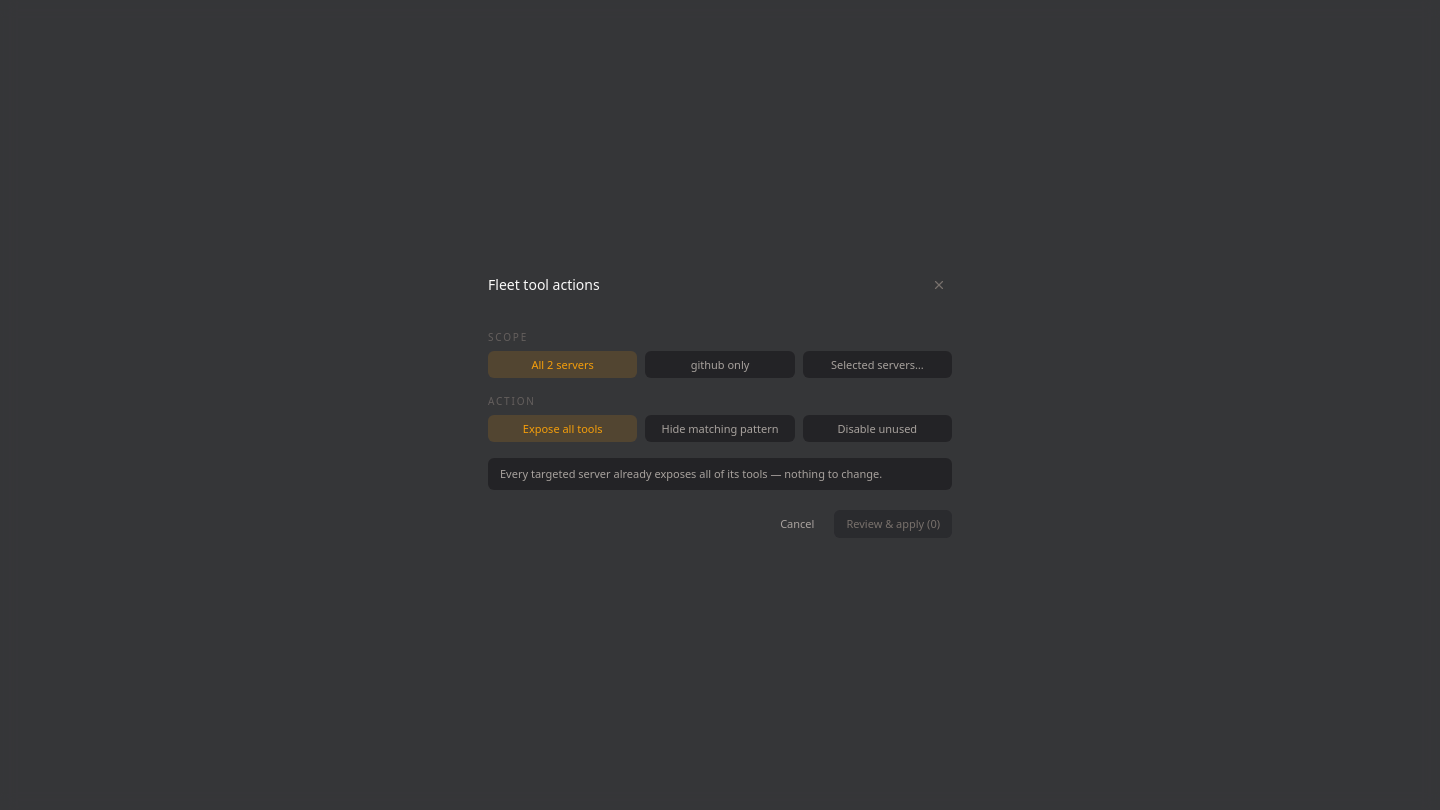
Test: FleetActions › scopes an action to a hand-picked subset of servers
This screenshot has width=1440, height=810.
Click the button "Selected servers…".
click(877, 364)  # box [803, 351, 952, 378]
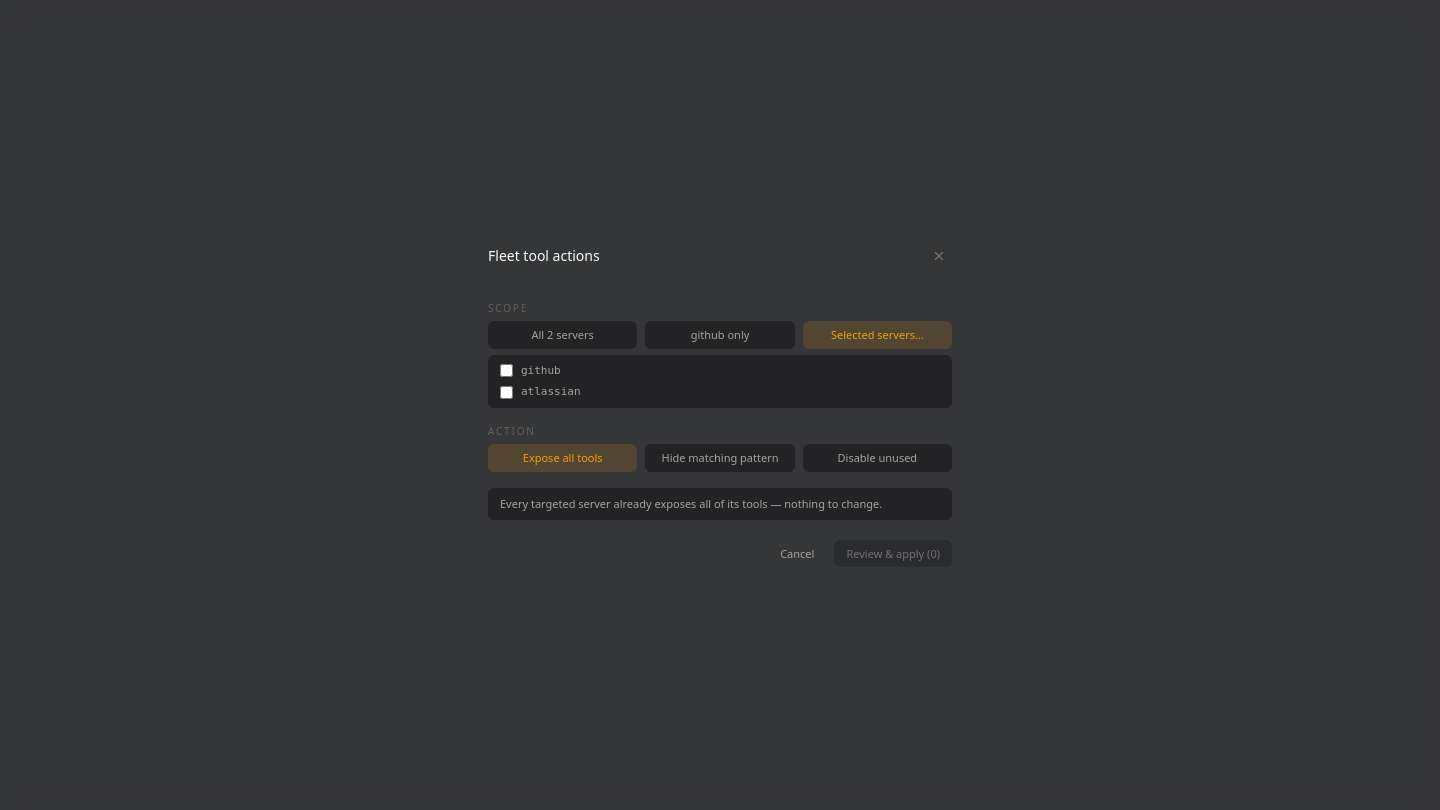
Click the button "Disable unused".
click(877, 458)  # box [803, 444, 952, 472]
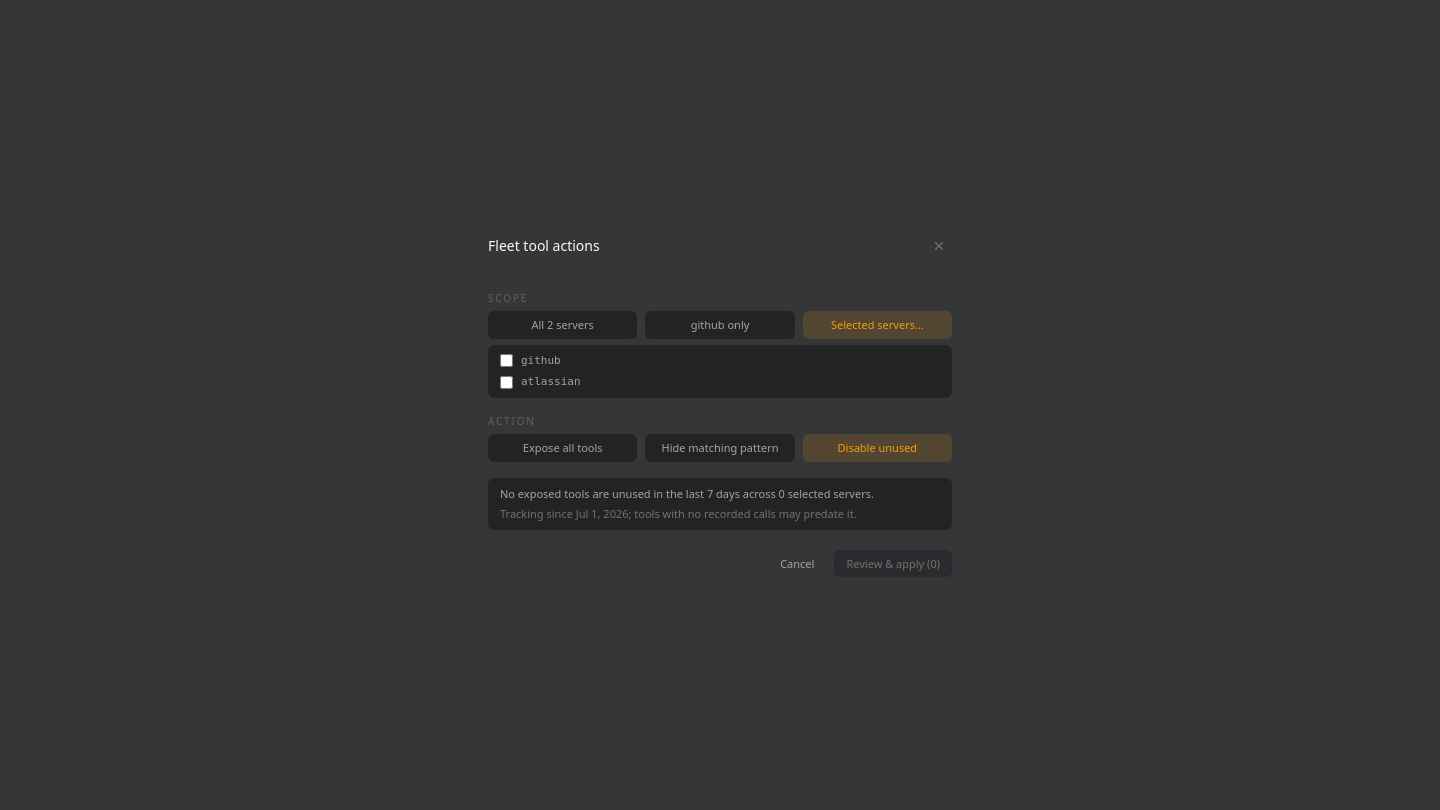
Check: the text "No exposed tools are unused" is shown, box [500, 486, 707, 501]
Click the checkbox labelled "github".
click(506, 361)  # box [500, 354, 513, 367]
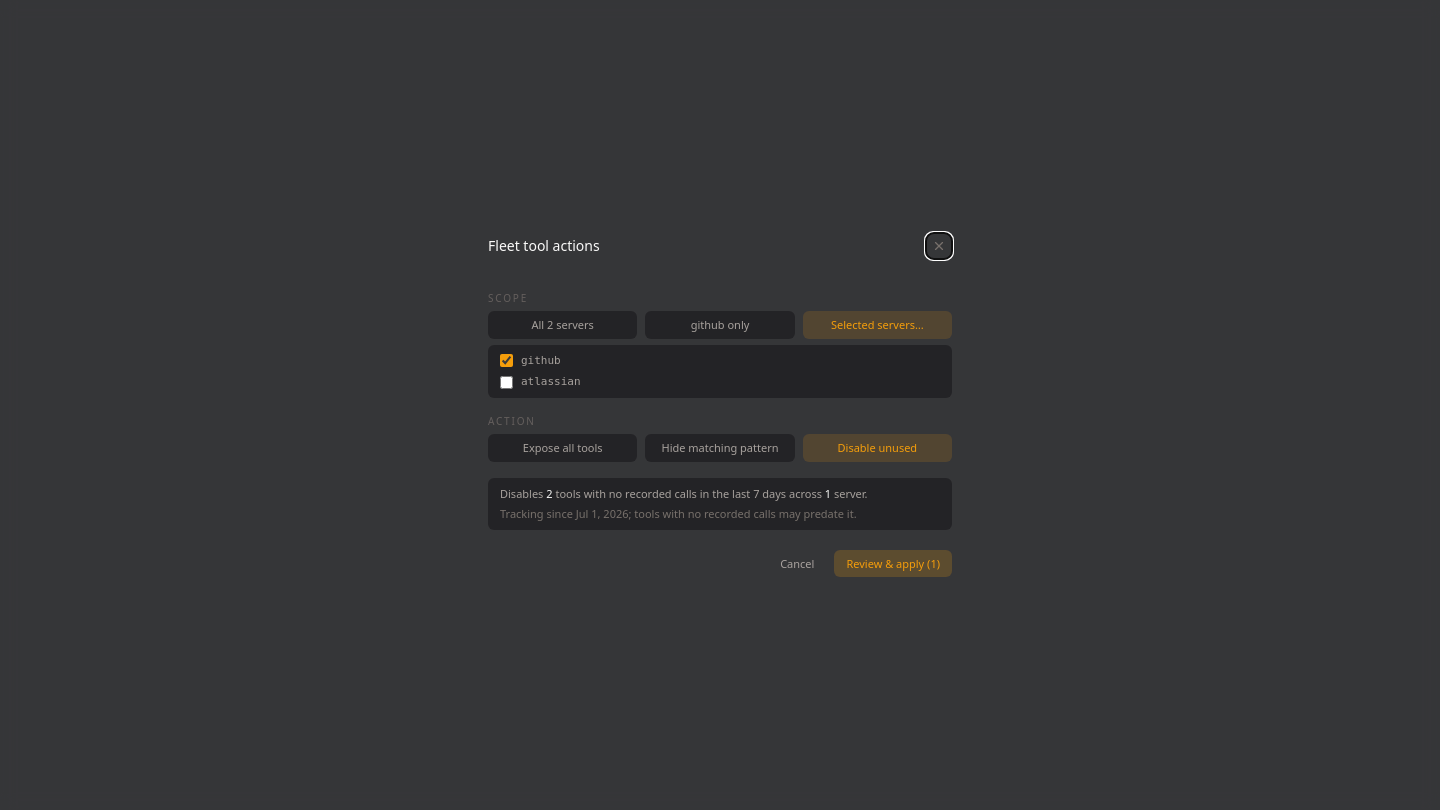
Check: the text "Disables" shows "across 1 server", box [500, 486, 868, 501]
